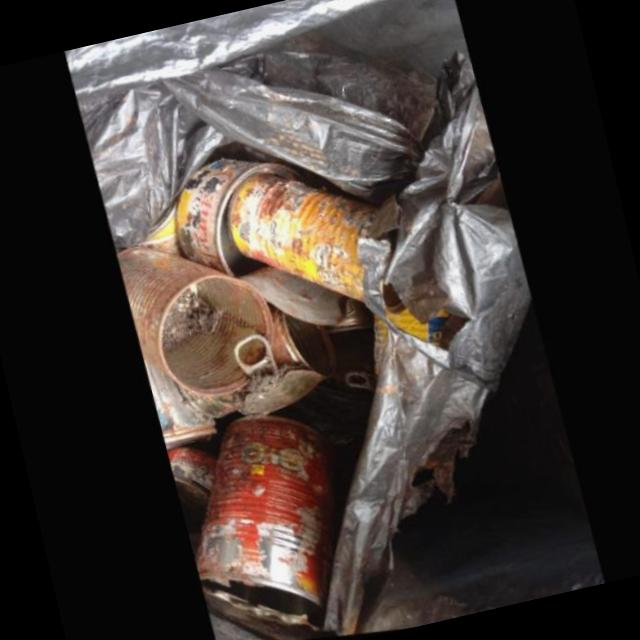nhom: (190, 420, 350, 633), (116, 253, 276, 402), (225, 168, 393, 307), (191, 305, 333, 426), (174, 165, 305, 284), (142, 368, 212, 457), (162, 446, 212, 510)
